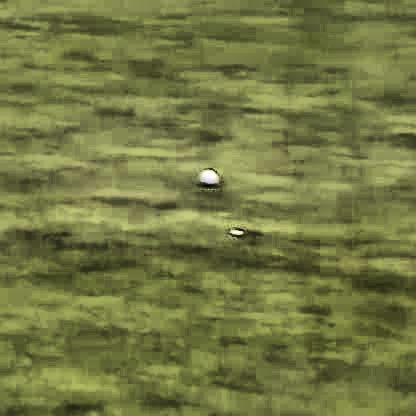golfball: (197, 167, 216, 185)
